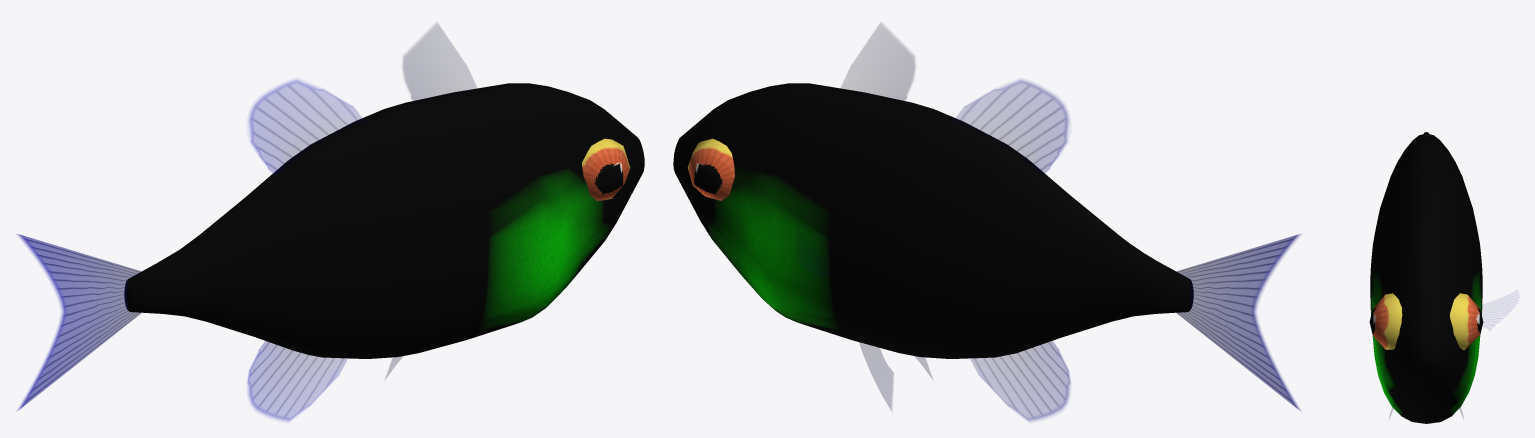
Rendered from cardinal_lod1.glb.
3 renders of one model, left to right at view 1: azimuth 30°, elevation 25°; view 2: azimuth 150°, elevation 25°; view 3: azimuth 270°, elevation 25°, orthographic. The views are drawn at different scales.
Parts seen in each view (by area): view 1: Body, FinCaudal, FinDorsal2, FinAnal, FinDorsal, EyeR; view 2: Body, FinCaudal, FinDorsal2, FinAnal, FinDorsal, EyeL, FinPelvicL; view 3: Body, EyeR, EyeL.
Boxes of the visible parts, x1,y1,x2,y2 form: Body: (124,83,644,358); FinCaudal: (16,234,141,411); FinDorsal2: (249,79,363,174); FinAnal: (247,341,347,421); FinDorsal: (403,23,477,102); EyeR: (582,138,630,200); Body: (673,83,1193,358); FinCaudal: (1176,234,1300,410); FinDorsal2: (954,79,1068,174); FinAnal: (970,341,1070,421); FinDorsal: (840,23,914,102); EyeL: (687,138,734,200); FinPelvicL: (859,342,893,410); Body: (1370,132,1482,423); EyeR: (1369,293,1402,349); EyeL: (1450,293,1483,350).
Bounding box in the file's own units: 1 × 0.5781 × 0.2868.
Materials: 4 (3 with a texture image).
